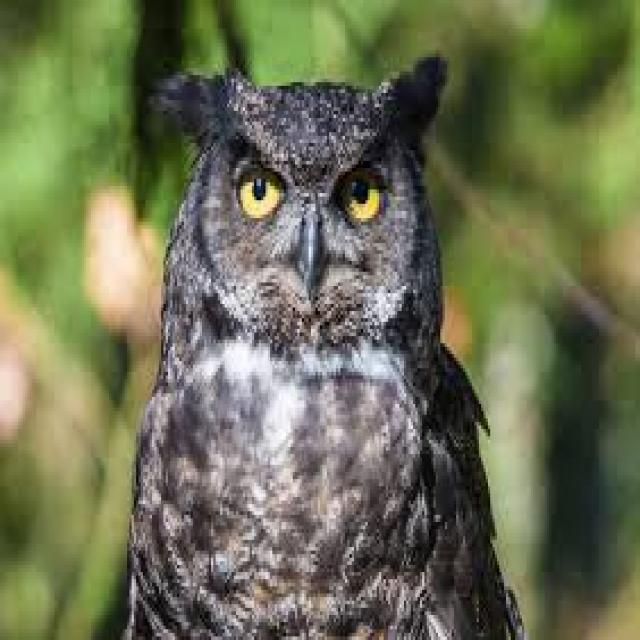Owl: (128, 51, 529, 640)
